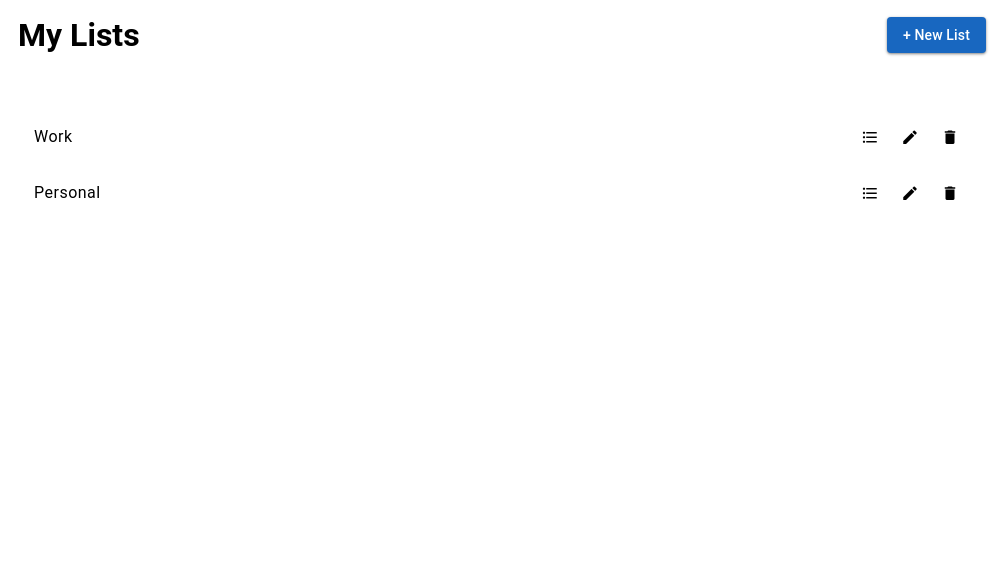
Test case: Feature 3 — Todo List Item Management › US-3.2 — View tasks in a list › User opens items for different lists
Click the button named "View items for Personal" at [870, 193], box [850,173,890,213]
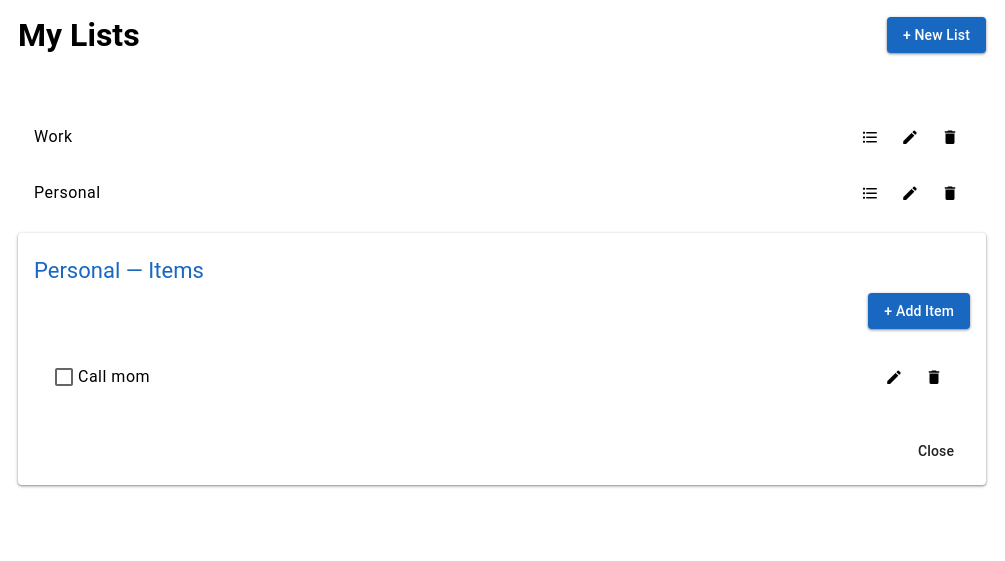
Expected: the text "Email client" is not shown
Expected: the text "Call mom" is shown, [78,367,150,386]
Click the button "Close" at [936, 451], box [902,433,970,469]
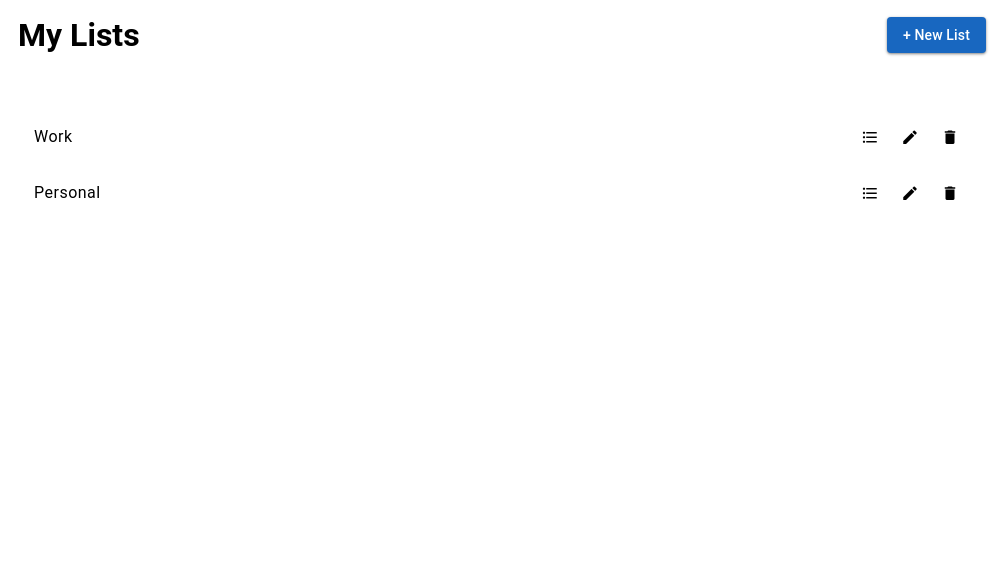
Click the button named "View items for Work" at [870, 137], box [850,117,890,157]
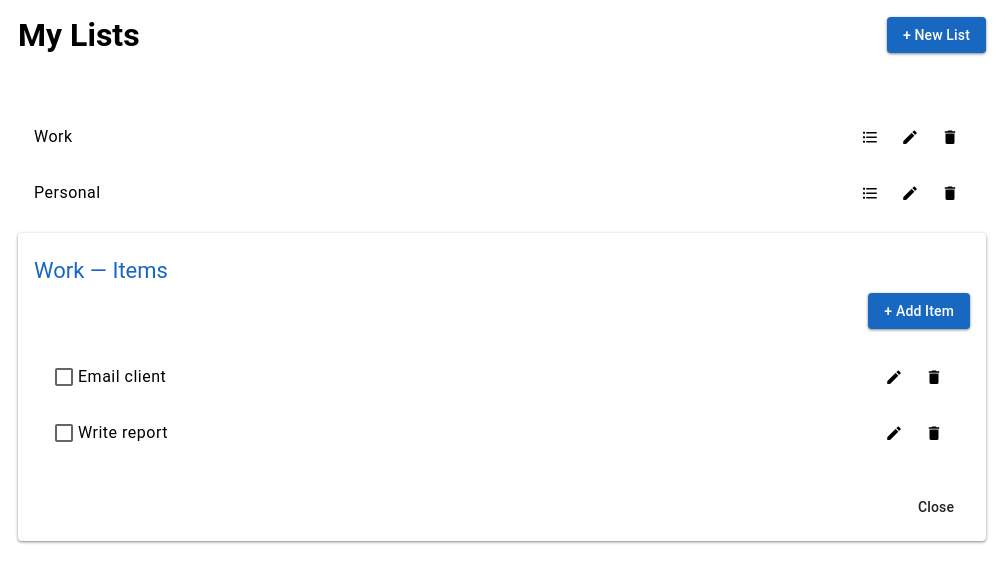
Expected: the text "Email client" is shown, [78,367,166,386]
Expected: the text "Write report" is shown, [78,423,168,442]
